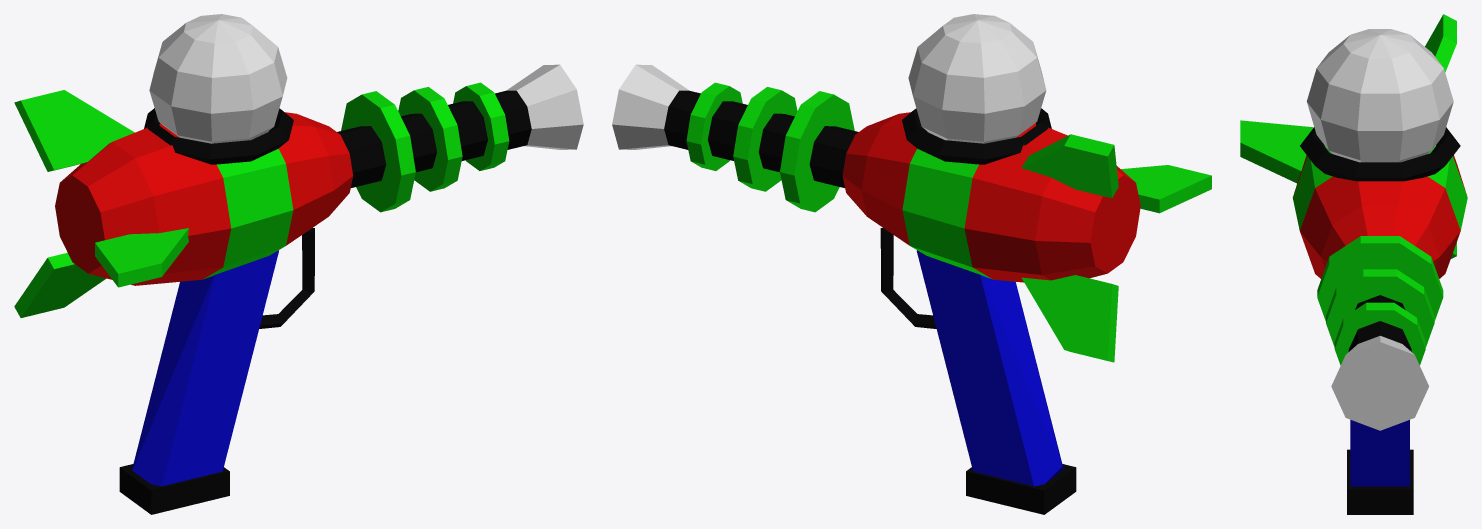
The model's file is SM_TN_PistolaNoqueo.fbx.
3 renders of one model, left to right at view 1: azimuth 30°, elevation 25°; view 2: azimuth 150°, elevation 25°; view 3: azimuth 270°, elevation 25°, orthographic. The views are drawn at different scales.
Visible parts, largest first — view 1: SM_TN_PistolaNoqueo; view 2: SM_TN_PistolaNoqueo; view 3: SM_TN_PistolaNoqueo.
Boxes of the visible parts, box(x1,y1,x2,y2) form: SM_TN_PistolaNoqueo: box(14, 14, 583, 514); SM_TN_PistolaNoqueo: box(612, 14, 1211, 514); SM_TN_PistolaNoqueo: box(1240, 14, 1467, 514).
Size of the model in its own units: 35 by 30.4 by 13.
